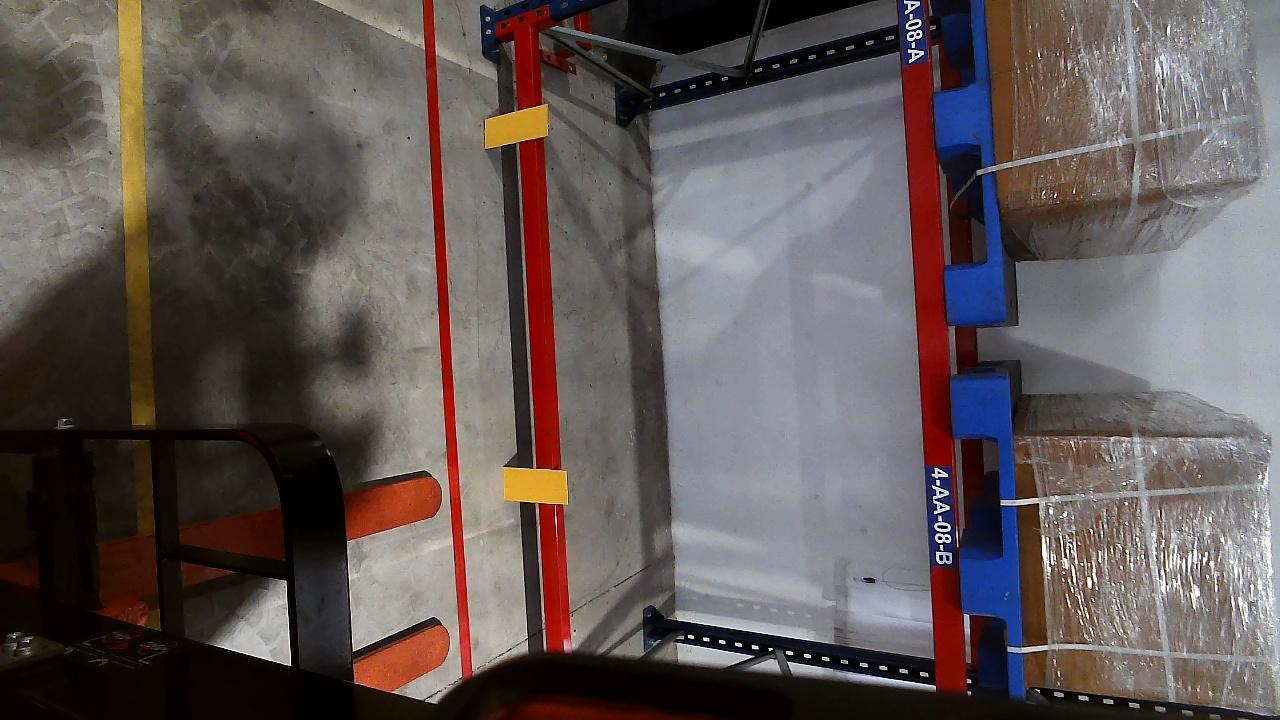h_rack: (892, 0, 961, 694), (512, 33, 569, 654)
orange_strip: (484, 104, 549, 147), (502, 466, 567, 505)
red_line: (423, 0, 481, 677)
small_pallet: (924, 0, 1012, 321), (952, 380, 1030, 692)
yellow_line: (116, 1, 155, 425)
